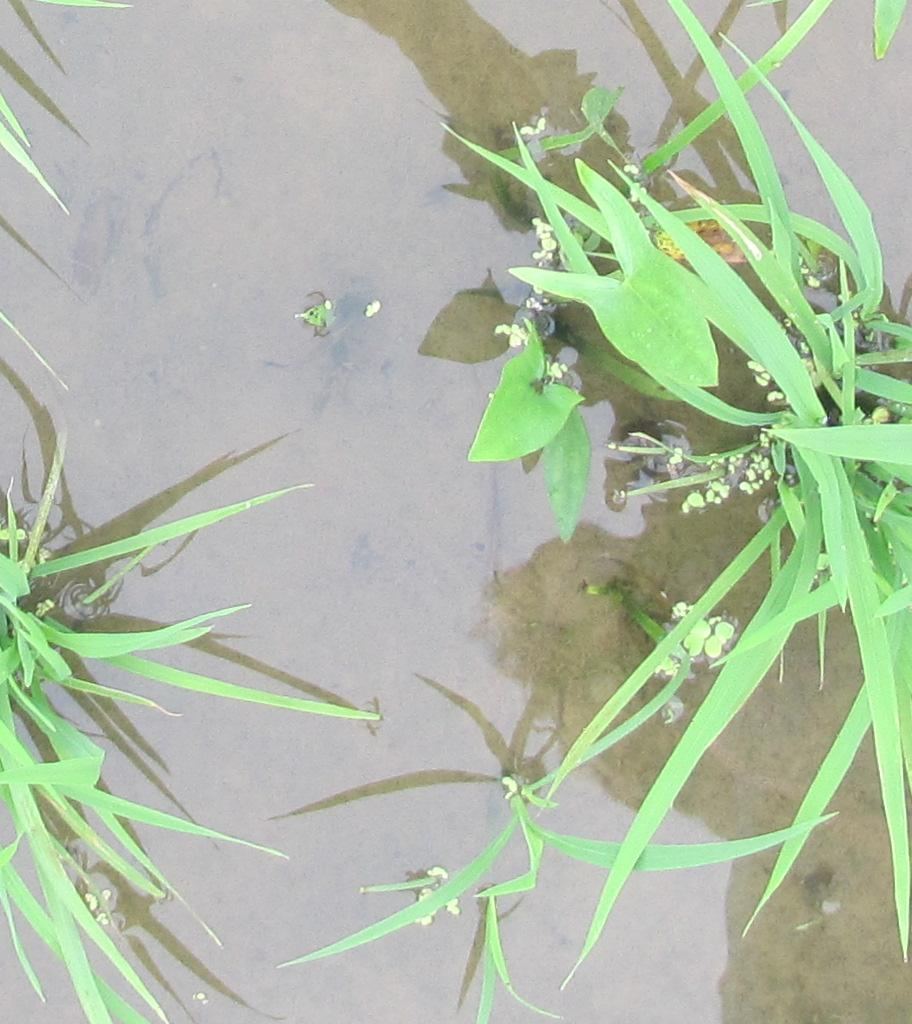Weed: (588, 252, 730, 399), (463, 342, 592, 475)
